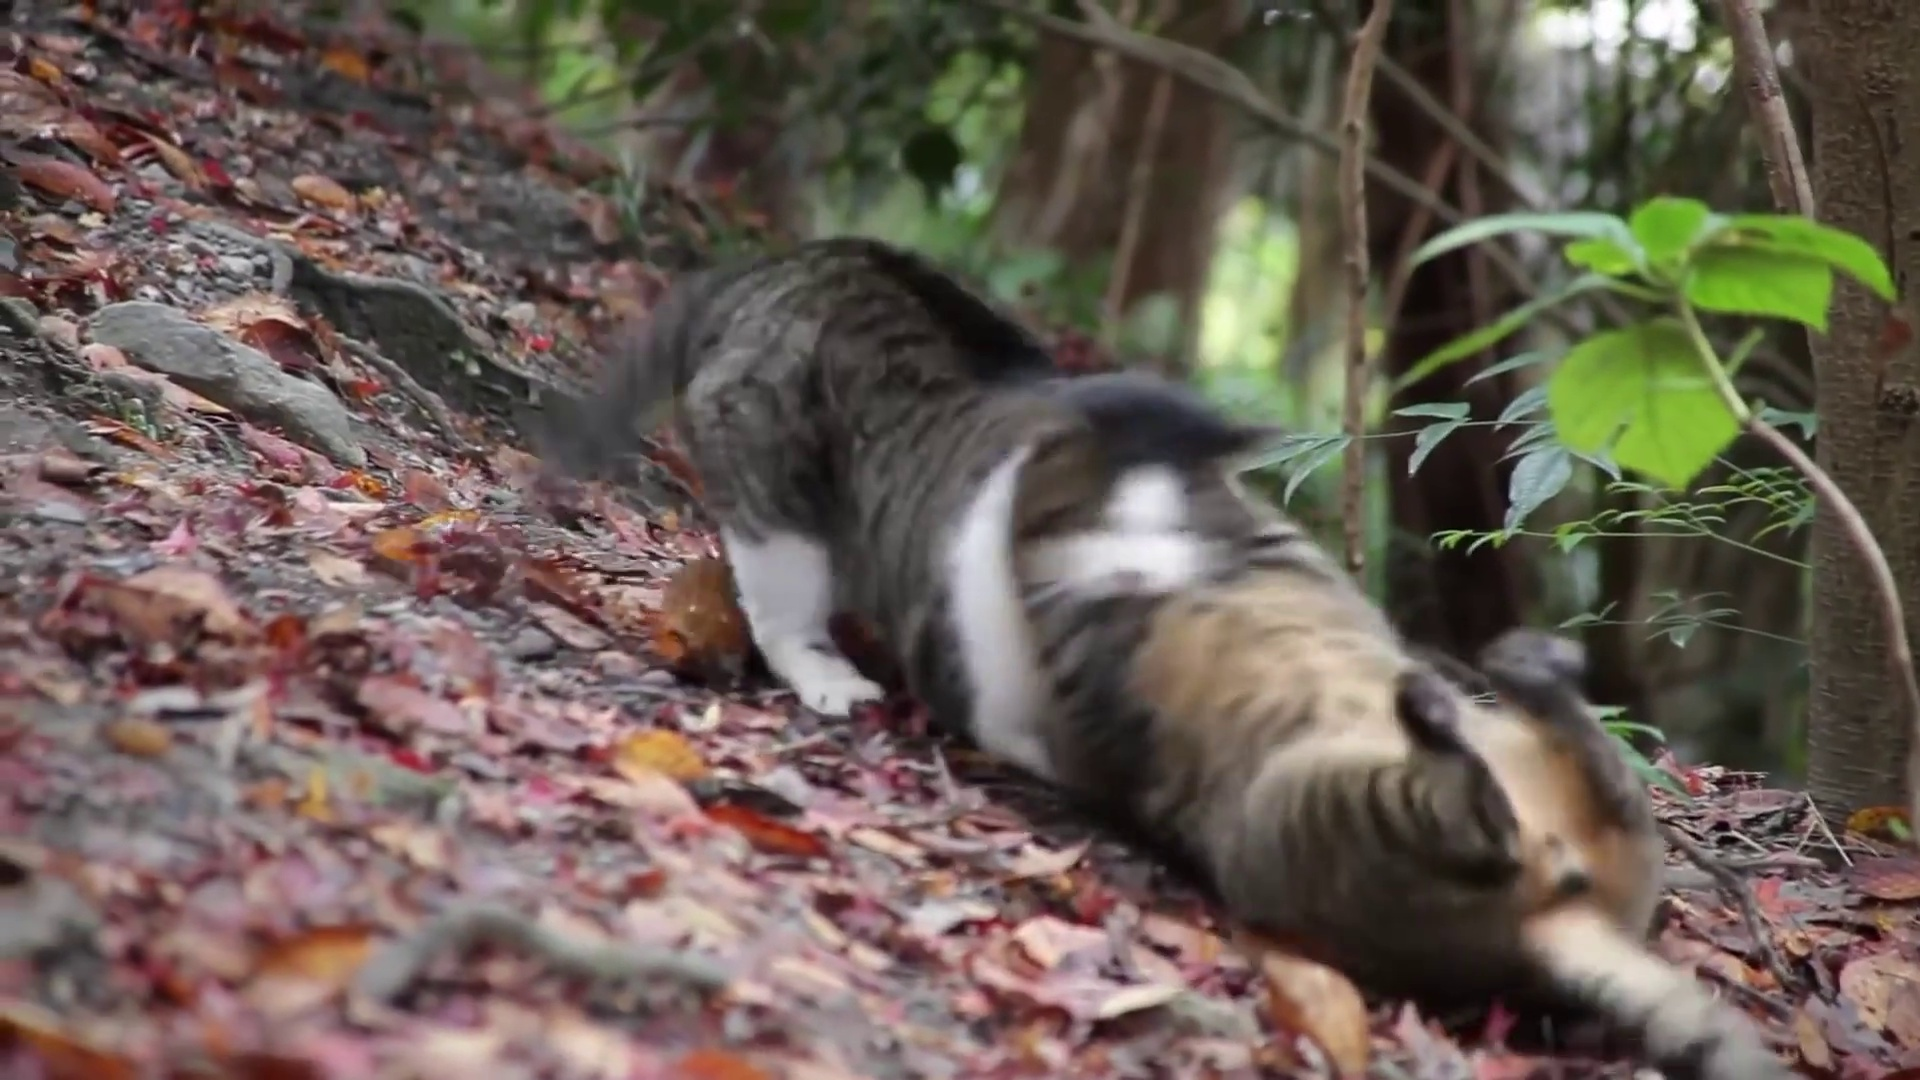black-white: (673, 233, 1255, 771)
pure black: (1043, 520, 1771, 1077)
